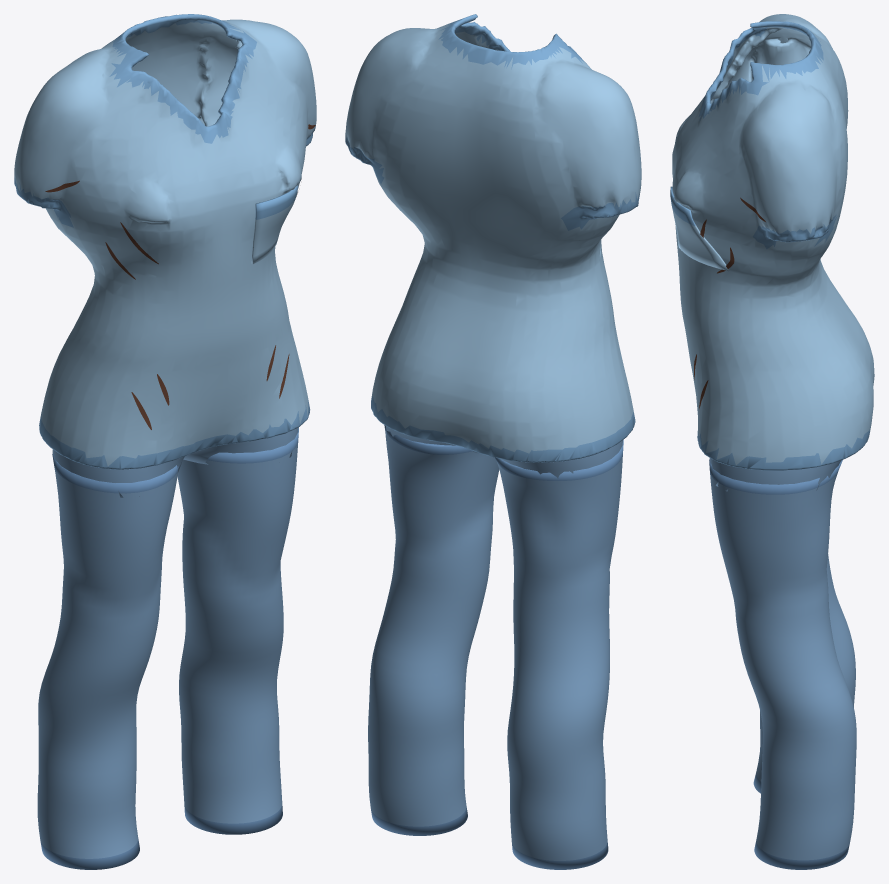
File: er_patient_clothes_f.glb
3 views of the same model, side by side, from view 1: azimuth 30°, elevation 25°; view 2: azimuth 150°, elevation 25°; view 3: azimuth 270°, elevation 25° (orthographic). The views are drawn at different scales.
Parts seen in each view (by area): view 1: patient_shirt, patient_pants, patient_pocket, patient_folds; view 2: patient_shirt, patient_pants; view 3: patient_shirt, patient_pants, patient_pocket.
Part boxes in pixels (x1,y1,x2,y2): patient_shirt: (14, 14, 316, 469); patient_pants: (37, 427, 298, 869); patient_pocket: (251, 185, 297, 263); patient_folds: (45, 124, 315, 429); patient_shirt: (345, 14, 641, 462); patient_pants: (368, 425, 623, 869); patient_shirt: (672, 14, 874, 470); patient_pants: (709, 458, 856, 869); patient_pocket: (670, 186, 729, 271).
Size of the model in its own units: 0.4942 by 1.31 by 0.3128.
